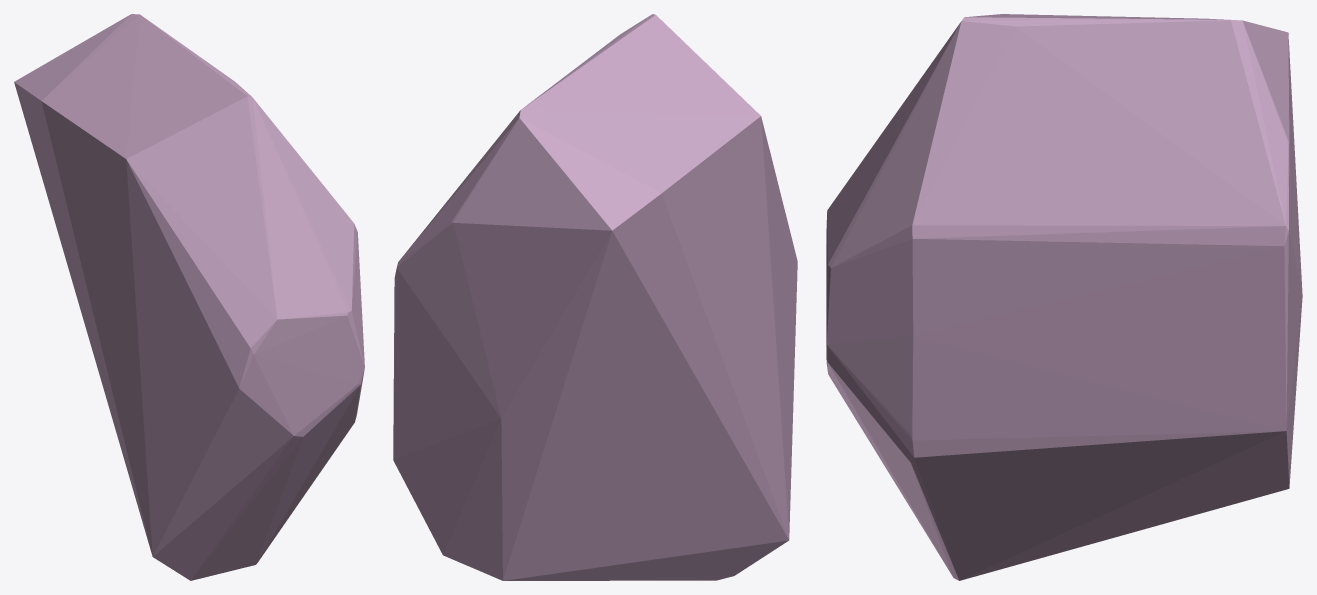
File: coolingSystem_coolant_reservoir_tank_e01.glb
3 renders of one model, left to right at view 1: azimuth 30°, elevation 25°; view 2: azimuth 150°, elevation 25°; view 3: azimuth 270°, elevation 25°, orthographic. The views are drawn at different scales.
Parts seen in each view (by area): view 1: geometry_0; view 2: geometry_0; view 3: geometry_0.
Boxes of the visible parts, x1,y1,x2,y2 form: geometry_0: (14, 14, 364, 580); geometry_0: (393, 14, 797, 580); geometry_0: (826, 14, 1302, 580).
Bounding box in the file's own units: 0.2105 × 0.4799 × 0.3707.
